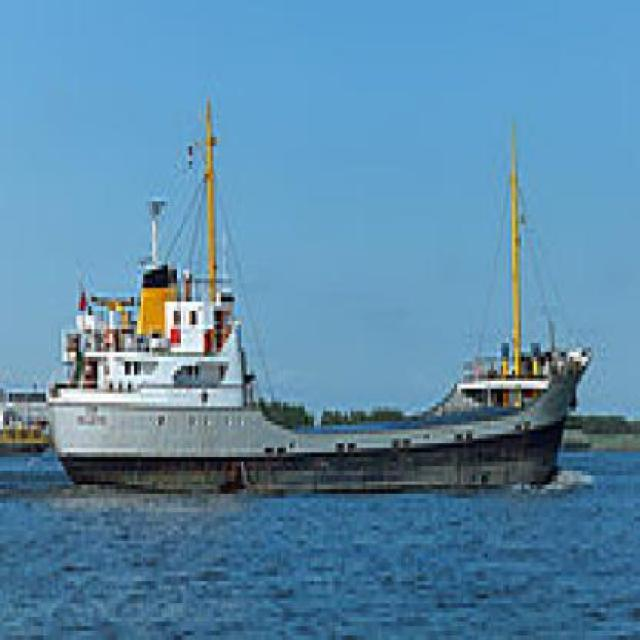container: (25, 78, 599, 509)
